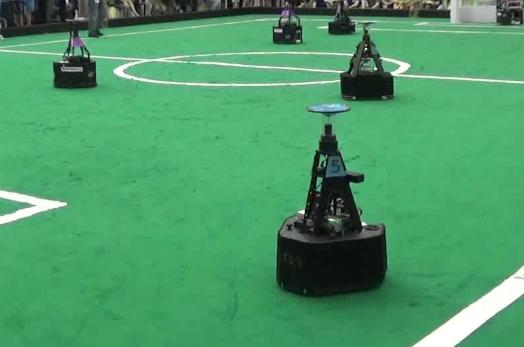robot: (273, 102, 391, 296), (337, 18, 397, 102), (50, 16, 99, 90), (271, 1, 305, 45)
